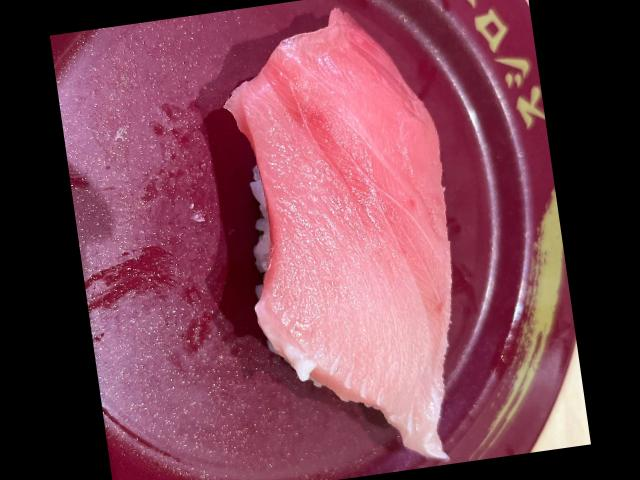janred: (49, 0, 591, 480)
